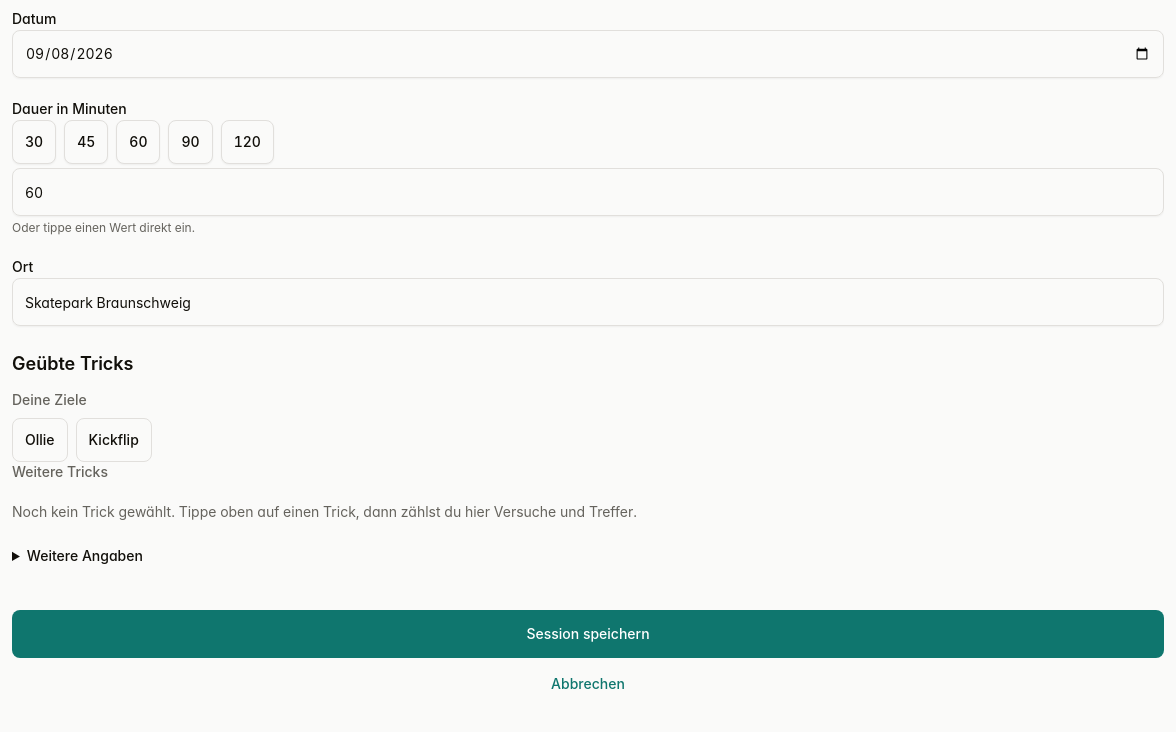
Test: SessionForm › Kriterium 12: adding a trick tile creates a row with attempts 10 and landed 0, and marks the tile pressed
The width and height of the screenshot is (1176, 732).
What coordinates should you click on to do the following:
click the button "Ollie"
I would click on:
 (40, 440)
Its box is [12, 418, 68, 462].
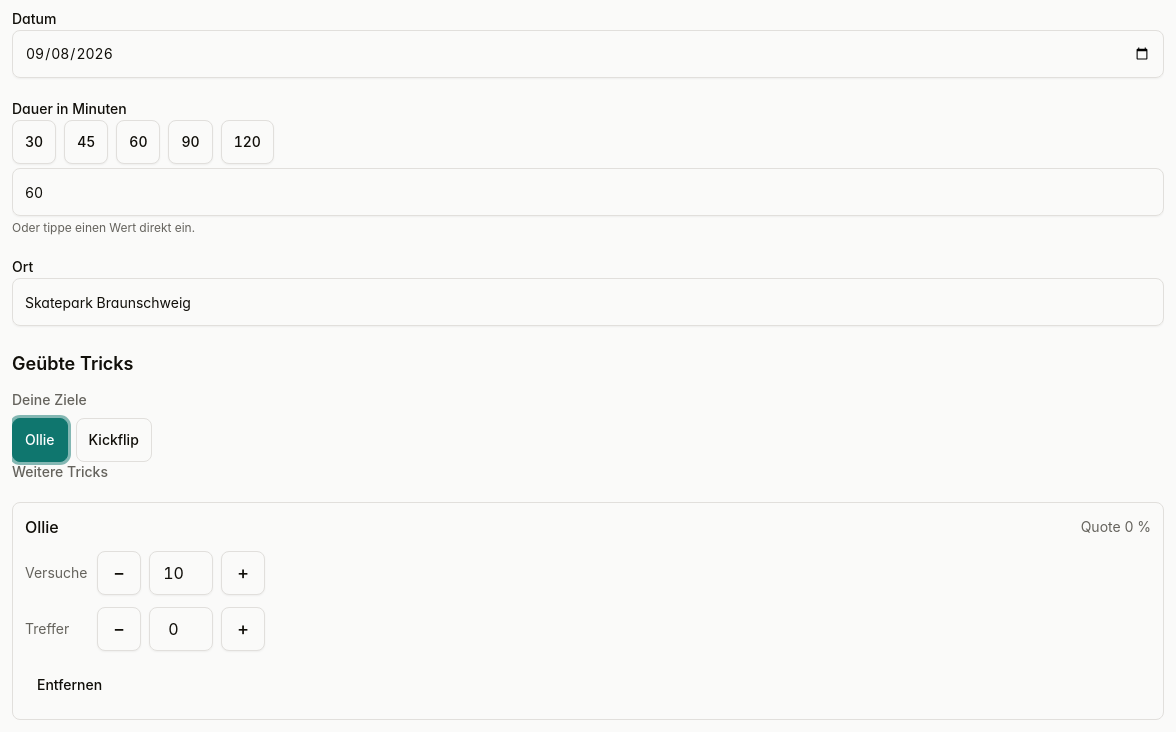
Expected: the number field named "Versuche für Ollie" holds "10", [149, 551, 213, 595]
Expected: the number field named "Treffer für Ollie" holds "0", [149, 607, 213, 651]
